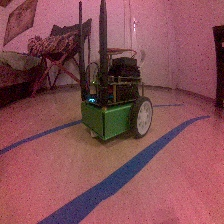rob: (79, 55, 153, 142)
